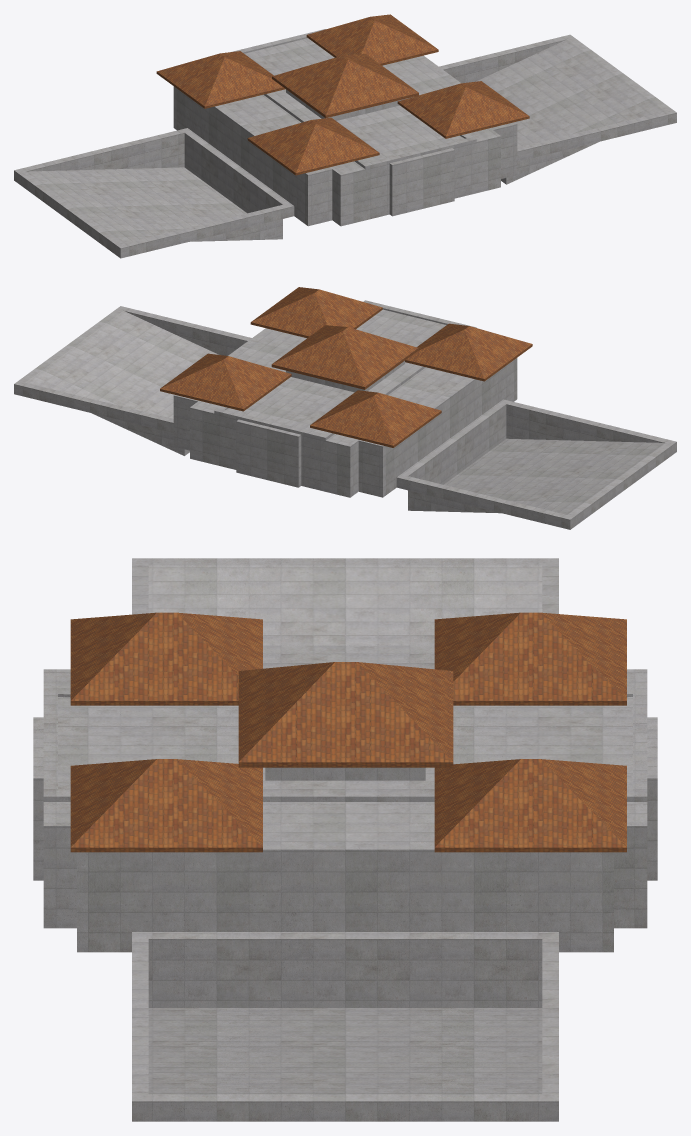
The model's file is Bonus-BLD-Zone-3.FBX.
3 views of the same model, one above another, from view 1: azimuth 30°, elevation 25°; view 2: azimuth 150°, elevation 25°; view 3: azimuth 270°, elevation 25° (orthographic). The views are drawn at different scales.
Visible parts, largest first — view 1: BLD-Type-20-001, Object009; view 2: BLD-Type-20-001, Object009; view 3: BLD-Type-20-001, Object009.
Part boxes in pixels (x1,y1,x2,y2): BLD-Type-20-001: [14, 29, 676, 258]; Object009: [156, 14, 529, 175]; BLD-Type-20-001: [14, 300, 676, 529]; Object009: [160, 287, 532, 447]; BLD-Type-20-001: [33, 558, 657, 1121]; Object009: [70, 612, 626, 852].
Bounding box in the file's own units: 58.02 × 11.81 × 28.19.
